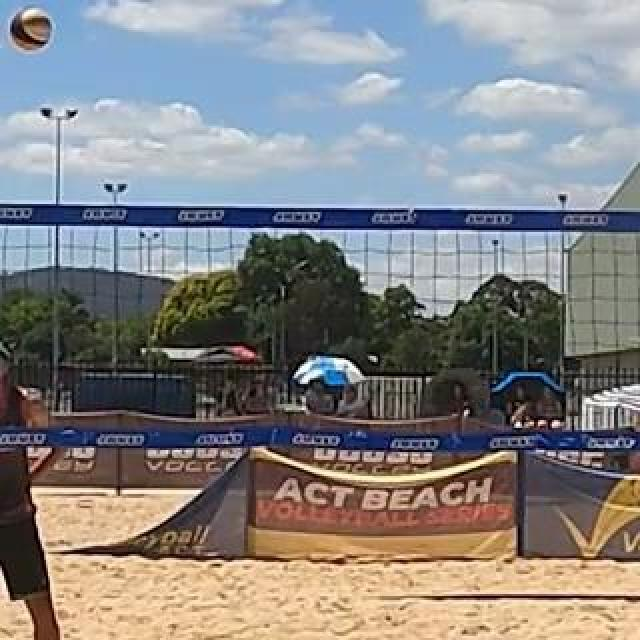volleyball: (10, 9, 52, 51)
